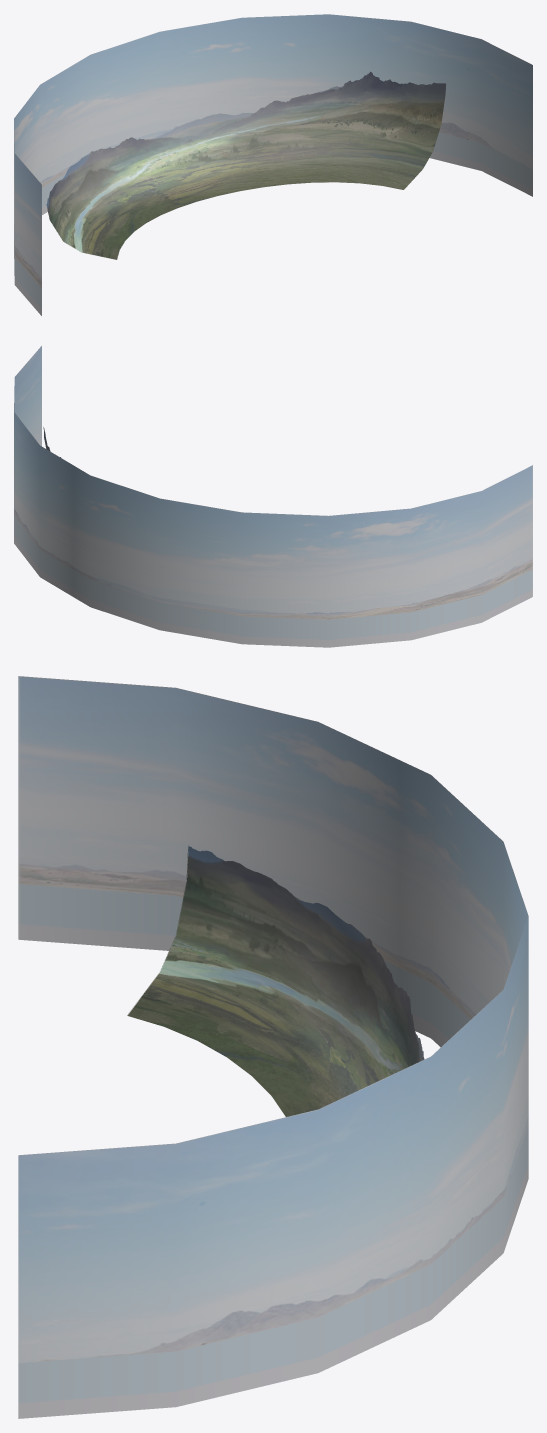
File: Sce_bf_beijing.FBX
3 views of the same model, one above another, from view 1: azimuth 30°, elevation 25°; view 2: azimuth 150°, elevation 25°; view 3: azimuth 270°, elevation 25° (orthographic). The views are drawn at different scales.
Visible parts, largest first — view 1: Sce_bf_beijing_01, Sce_bf_beijing_02; view 2: Sce_bf_beijing_01; view 3: Sce_bf_beijing_01, Sce_bf_beijing_02.
Boxes of the visible parts, x1,y1,x2,y2 form: Sce_bf_beijing_01: (14, 14, 532, 315); Sce_bf_beijing_02: (46, 71, 446, 259); Sce_bf_beijing_01: (14, 346, 532, 647); Sce_bf_beijing_01: (18, 676, 528, 1418); Sce_bf_beijing_02: (127, 845, 424, 1116).
Size of the model in its own units: 4419 by 1134 by 1988.
